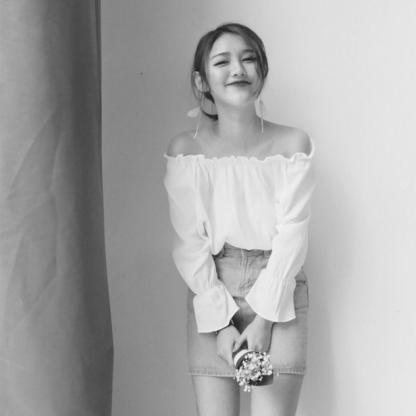jacket: (159, 144, 320, 324), (177, 236, 309, 386)
